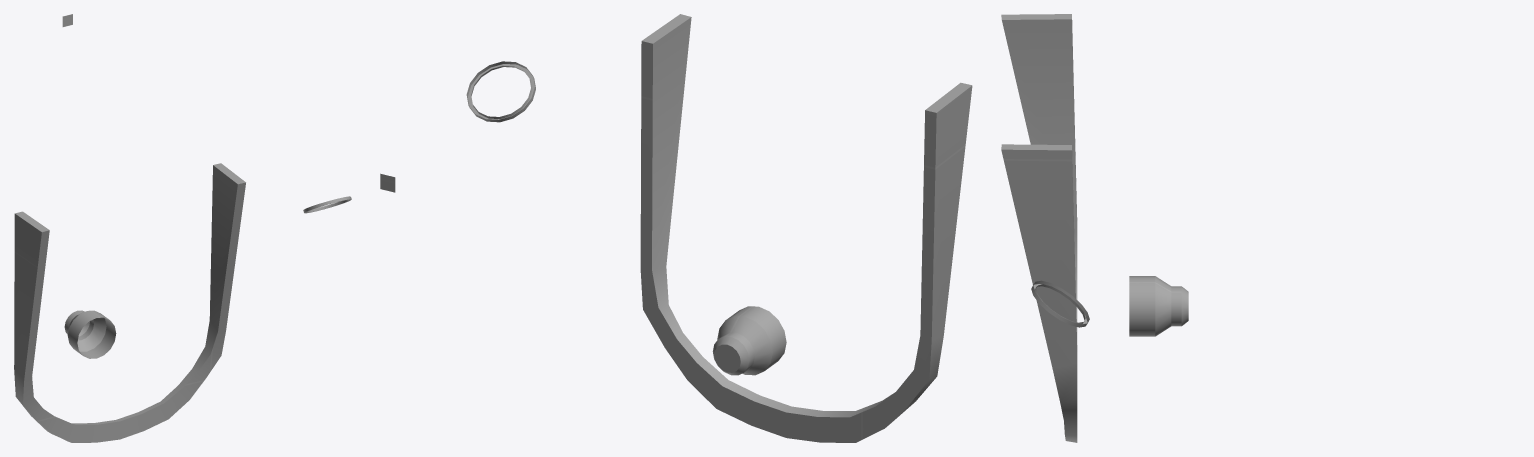
Rendered from CoffeeMachine_19_CoffeeMachine_19_0_GeomSubset_2.obj.
3 views of the same model, side by side, from view 1: azimuth 30°, elevation 25°; view 2: azimuth 150°, elevation 25°; view 3: azimuth 270°, elevation 25° (orthographic). The views are drawn at different scales.
Visible parts, largest first — view 1: CoffeeMachine_19_CoffeeMachine_19_0_GeomSubset_2; view 2: CoffeeMachine_19_CoffeeMachine_19_0_GeomSubset_2; view 3: CoffeeMachine_19_CoffeeMachine_19_0_GeomSubset_2.
Boxes of the visible parts, x1,y1,x2,y2 form: CoffeeMachine_19_CoffeeMachine_19_0_GeomSubset_2: (14, 14, 351, 442); CoffeeMachine_19_CoffeeMachine_19_0_GeomSubset_2: (380, 14, 972, 442); CoffeeMachine_19_CoffeeMachine_19_0_GeomSubset_2: (1001, 14, 1188, 442).
Bounding box in the file's own units: 0.321 × 0.2555 × 0.3224.
